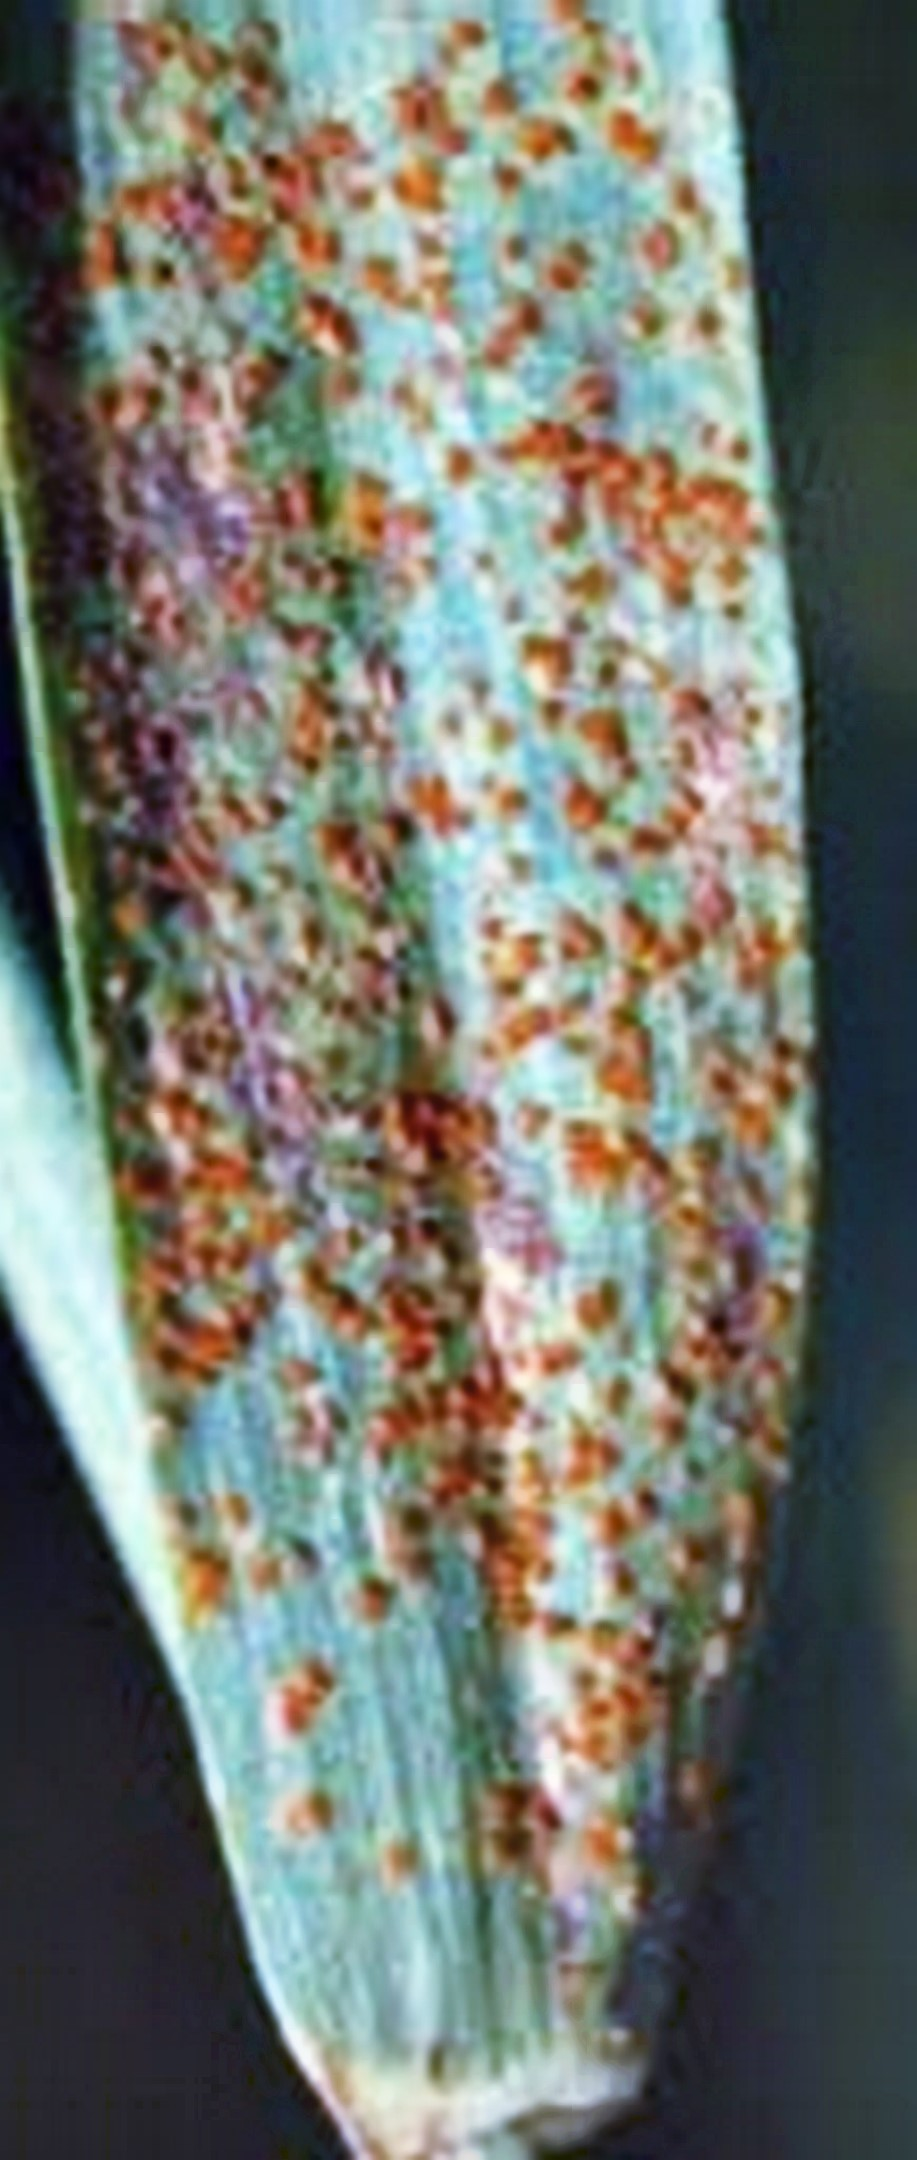Leaf Rust: (52, 329, 845, 1614)
